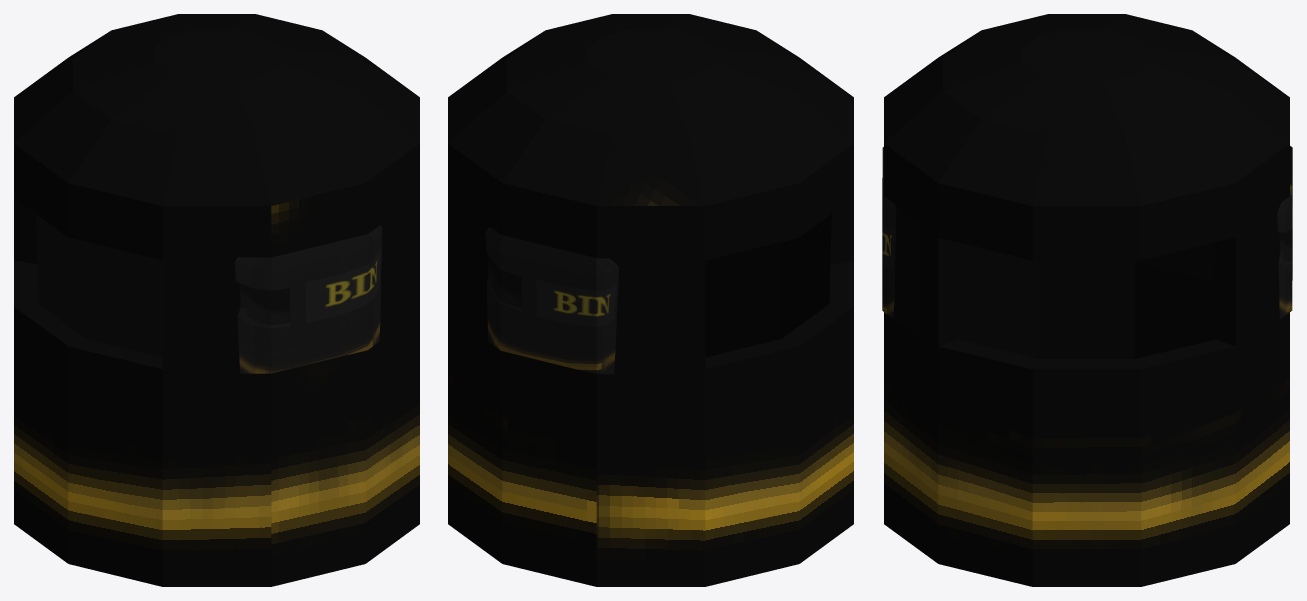
Rendered from bin.glb.
The picture shows the model from 3 angles, left to right: view 1: azimuth 30°, elevation 25°; view 2: azimuth 150°, elevation 25°; view 3: azimuth 270°, elevation 25°; orthographic projection.
Visible parts, largest first — view 1: Cylinder, Plane; view 2: Cylinder, Plane.001; view 3: Cylinder, Plane, Plane.001.
Part boxes in pixels (left/top/right/bottom): Cylinder: left=14, top=14, right=419, bottom=586; Plane: left=196, top=205, right=408, bottom=373; Cylinder: left=448, top=14, right=853, bottom=586; Plane.001: left=463, top=207, right=676, bottom=374; Cylinder: left=884, top=14, right=1289, bottom=586; Plane: left=882, top=147, right=921, bottom=339; Plane.001: left=1254, top=146, right=1292, bottom=337.
Size of the model in its own units: 1.93 by 2.34 by 1.95.
Materials: 2 (2 with a texture image).
